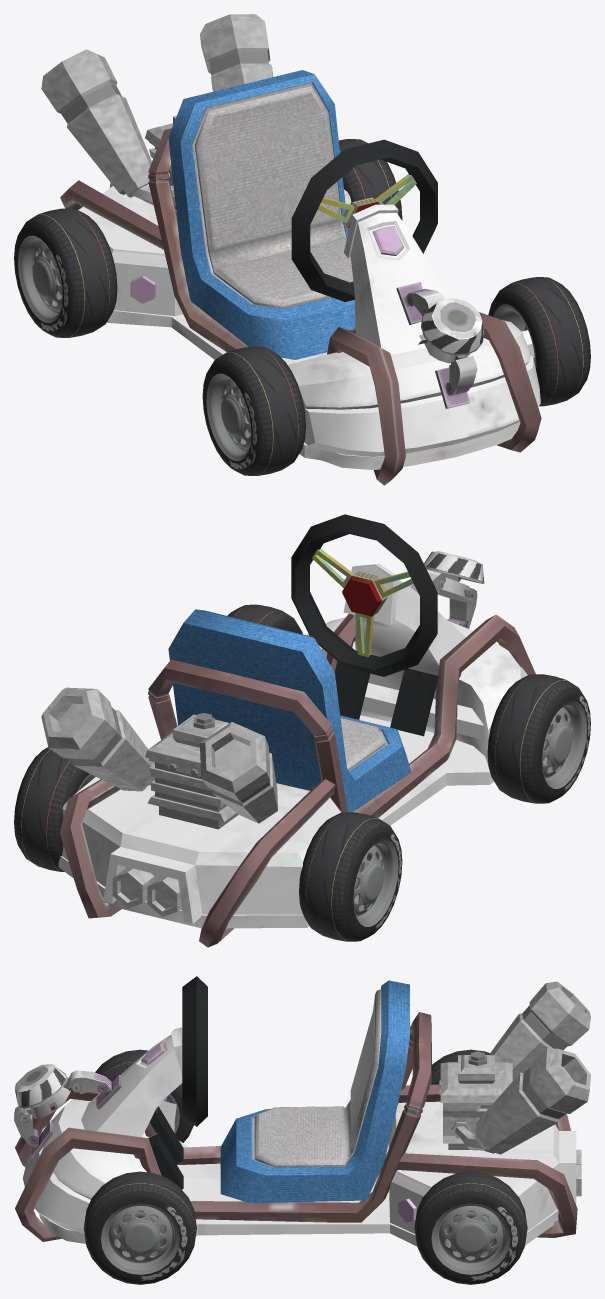
The model's file is 07-GoKart-Stock-White.glb.
The picture shows the model from 3 angles, top to bottom: view 1: azimuth 30°, elevation 25°; view 2: azimuth 150°, elevation 25°; view 3: azimuth 270°, elevation 25°; orthographic projection. The views are drawn at different scales.
Parts seen in each view (by area): view 1: GoKart, Regular, Tire (×4), Engine_008, Torus, Aero (×2), Weapon_Mount-Default_OBJ_3, INT_WHEEL_005, arm1.2-Default_OBJ_3, foot1-Default_OBJ_3, arm1.3-Default_OBJ_3; view 2: GoKart, Tire (×4), Engine_008, Regular, Torus, Aero (×2), INT_WHEEL_005, Weapon_Mount-Default_OBJ_3, arm1.2-Default_OBJ_3; view 3: GoKart, Regular, Engine_008, Tire (×4), Aero (×2), Torus, Weapon_Mount-Default_OBJ_3, arm1.3-Default_OBJ_3, arm1.2-Default_OBJ_3.
Boxes of the visible parts, box(x1,y1,x2,y2) form: GoKart: box(60, 128, 541, 485); Regular: box(168, 70, 355, 359); Tire (×4): box(14, 139, 590, 475); Engine_008: box(41, 14, 272, 209); Torus: box(291, 139, 437, 301); Aero (×2): box(17, 235, 251, 461); Weapon_Mount-Default_OBJ_3: box(418, 298, 484, 363); INT_WHEEL_005: box(317, 174, 416, 231); arm1.2-Default_OBJ_3: box(446, 356, 477, 395); foot1-Default_OBJ_3: box(435, 367, 469, 408); arm1.3-Default_OBJ_3: box(406, 289, 444, 315); GoKart: box(58, 563, 535, 947); Tire (×4): box(14, 604, 590, 941); Engine_008: box(41, 687, 277, 916); Regular: box(168, 609, 411, 812); Torus: box(291, 514, 437, 676); Aero (×2): box(353, 701, 587, 926); INT_WHEEL_005: box(312, 548, 413, 657); Weapon_Mount-Default_OBJ_3: box(424, 551, 484, 602); arm1.2-Default_OBJ_3: box(448, 588, 477, 628); GoKart: box(15, 1012, 577, 1246); Regular: box(220, 980, 409, 1203); Engine_008: box(439, 981, 590, 1196); Tire (×4): box(83, 1049, 527, 1284); Aero (×2): box(101, 1203, 510, 1274); Torus: box(182, 976, 207, 1126); Weapon_Mount-Default_OBJ_3: box(14, 1064, 70, 1119); arm1.3-Default_OBJ_3: box(68, 1070, 111, 1094); arm1.2-Default_OBJ_3: box(14, 1106, 38, 1147).
Size of the model in its own units: 4.06 by 3.09 by 6.9.
8 materials, 8 textured.
